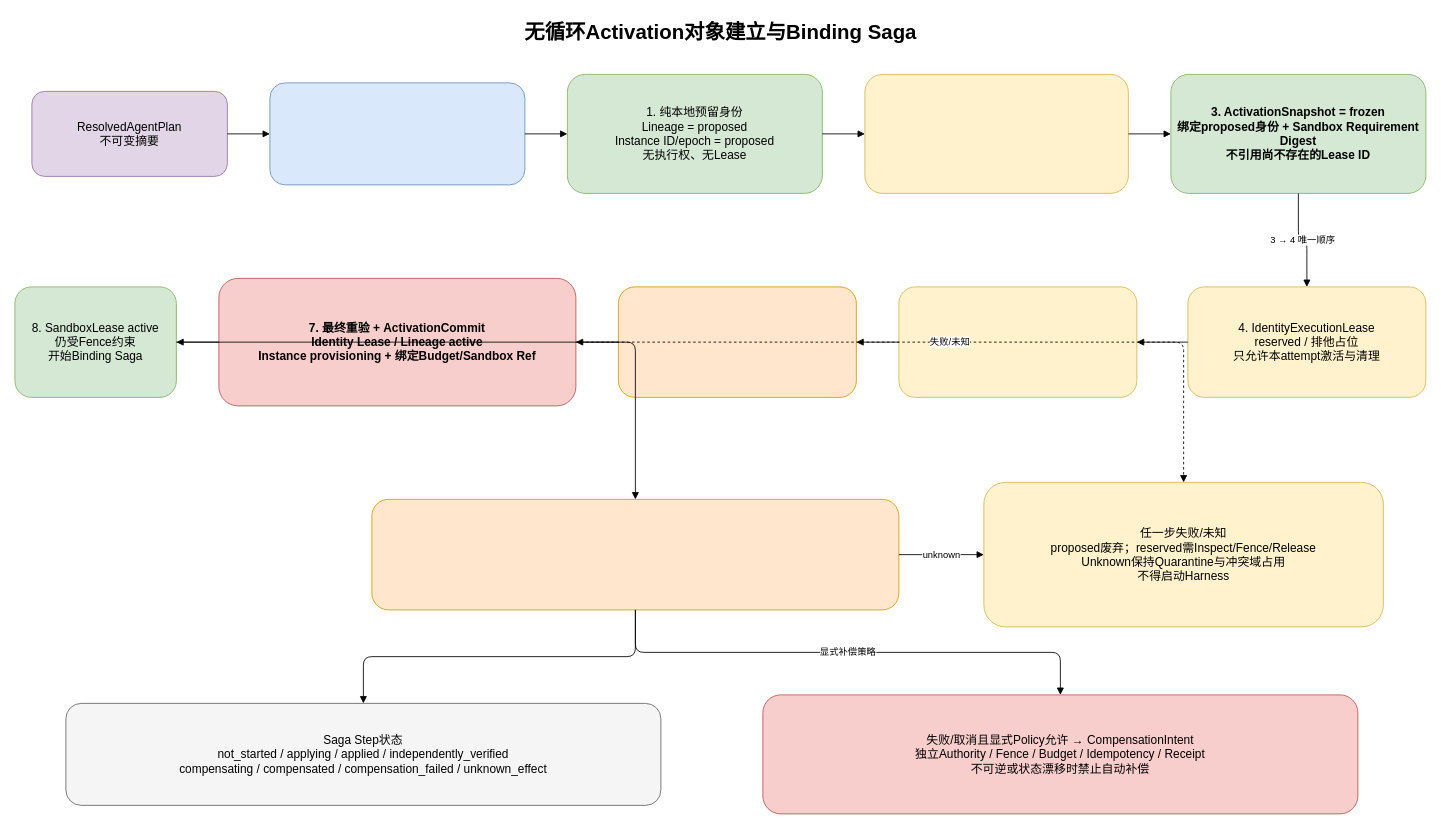
The diagram is 1441 pixels wide and 829 high, and some of its shapes have lost their labels. Here are the shapes that lost their labels. From the top down, the box of each, then its label:
(269, 82, 525, 185): Static Admission 纯本地 / 无外部Effect Schema、DAG、Policy、Secret检测
(864, 74, 1128, 193): 2. Bounded Preflight 关联proposed Instance 显式Probe预算、目标、TTL Unknown/残留不得进入Snapshot
(618, 286, 856, 397): 6. SandboxLease reserved_quarantined 禁止Harness/网络/业务凭据
(898, 286, 1137, 397): 5. Budget Reservation 按Snapshot requested cap 适用时；否则明确not_required
(371, 499, 899, 610): Binding Saga（按DAG） Intent先持久化 → Apply → Receipt/Inspect Required全部独立验证才可Ready
